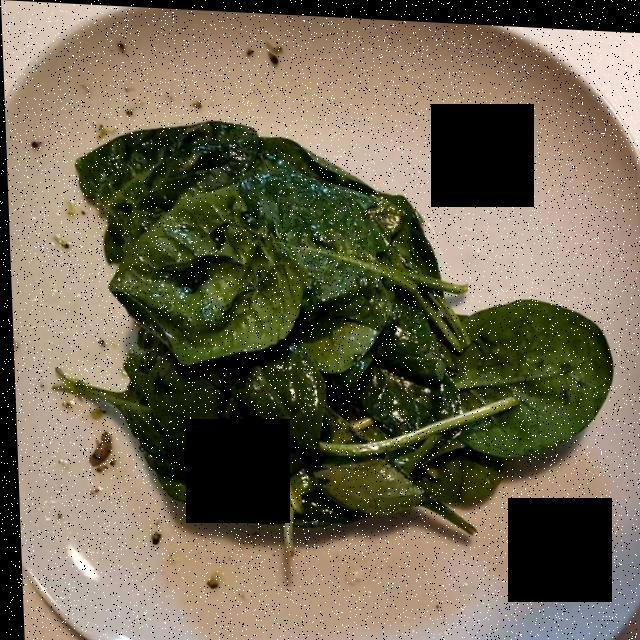spinach: (55, 119, 593, 547)
